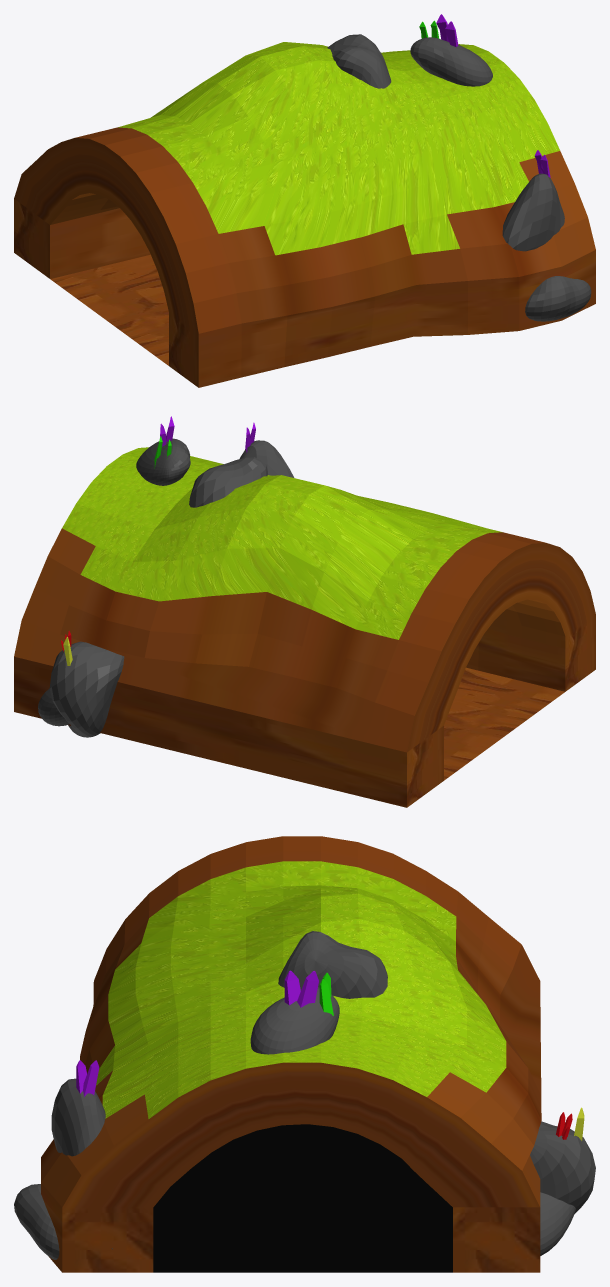
Rendered from Escenario (4).fbx.
3 renders of one model, top to bottom at view 1: azimuth 30°, elevation 25°; view 2: azimuth 150°, elevation 25°; view 3: azimuth 270°, elevation 25°, orthographic. The views are drawn at different scales.
Visible parts, largest first — view 1: Cube.021; view 2: Cube.021; view 3: Cube.021.
Boxes of the visible parts, x1,y1,x2,y2 form: Cube.021: (14,14,595,387); Cube.021: (14,416,595,807); Cube.021: (14,836,595,1272).
Bounding box in the file's own units: 1487 × 899 × 1615.
12 materials, 2 textured.
